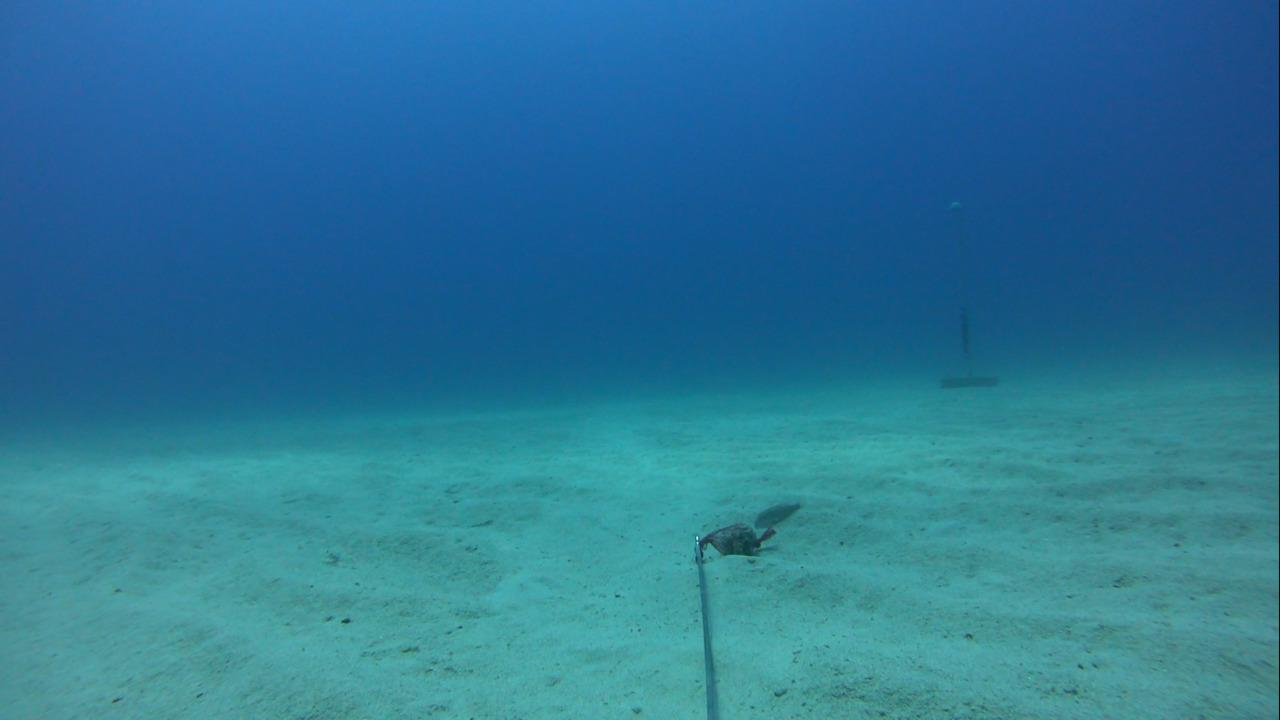raor: (746, 494, 811, 537)
